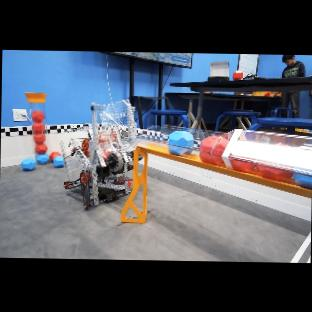Robot: (60, 99, 136, 209)
V5_BLUE: (20, 158, 35, 170), (52, 155, 64, 167), (36, 153, 49, 164)
V5_RED: (49, 151, 61, 161)
blueingoal: (168, 130, 193, 156), (293, 174, 311, 188)
redingoal: (229, 159, 292, 181), (199, 135, 229, 168)
redloader: (31, 110, 47, 155)
